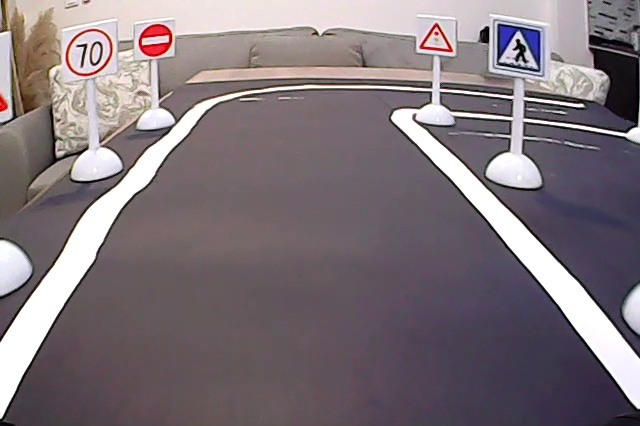do not enter: (136, 20, 175, 60)
pedestrian crossing: (492, 18, 544, 76)
red light: (417, 19, 455, 55)
speed limit 70: (63, 25, 116, 82)
